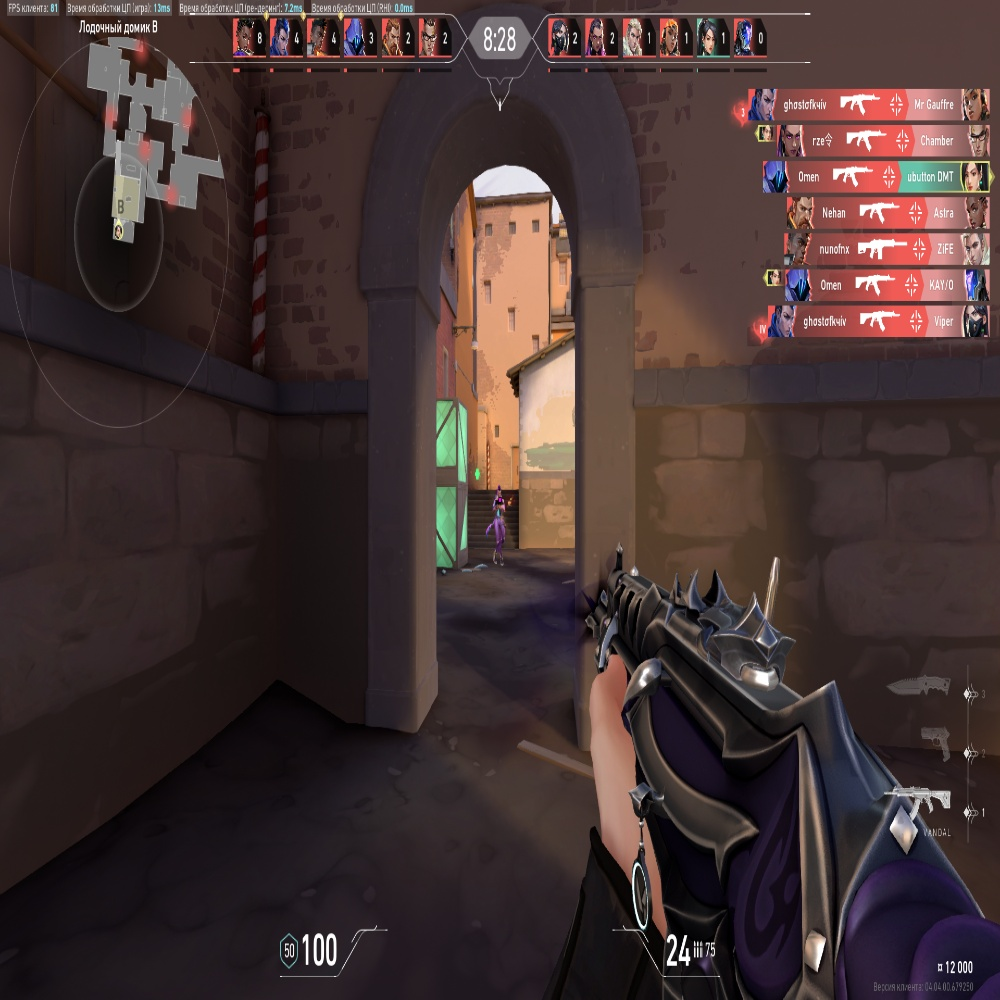body: (493, 500, 504, 521)
head: (497, 487, 502, 496)
